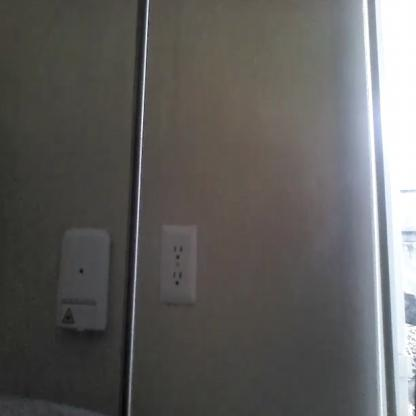OUTLET: (159, 225, 196, 304)
